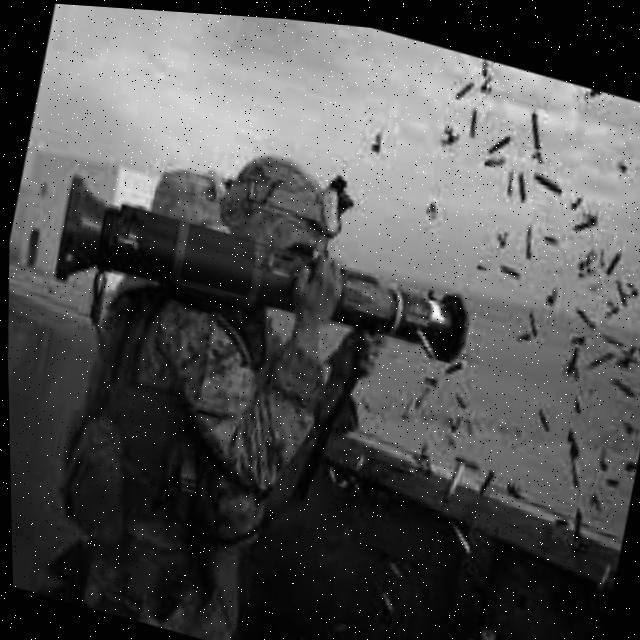rocket: (33, 162, 486, 377)
